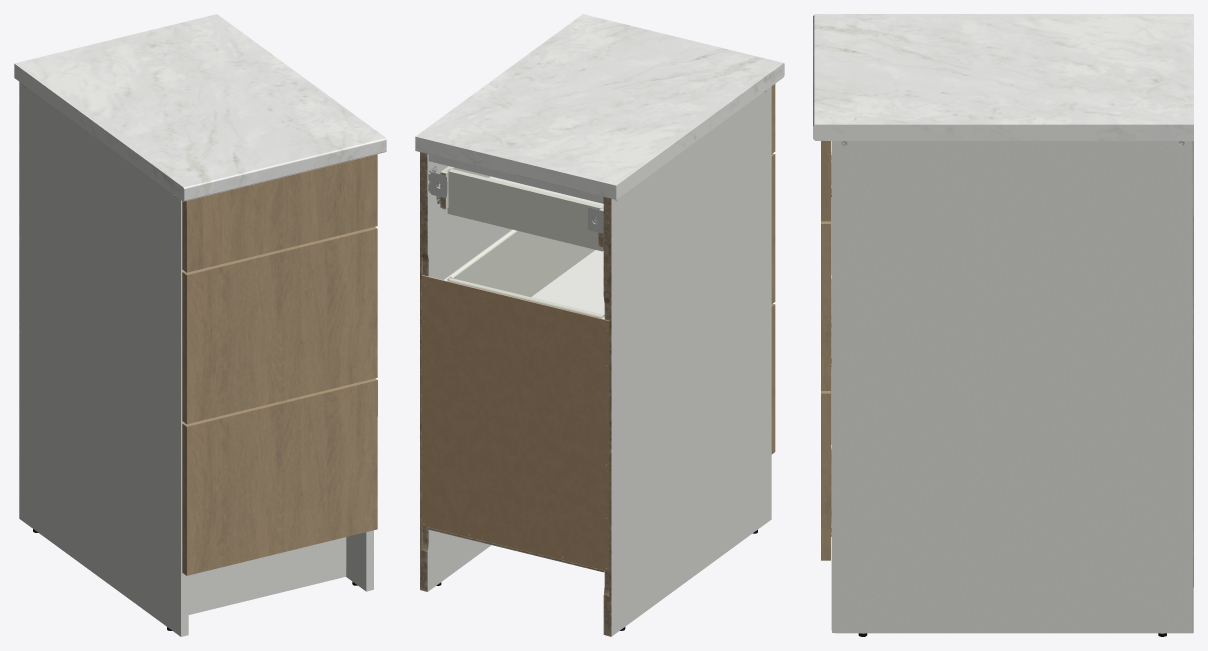
Rendered from knoxhult_szafka_z_szufladami_60603979.glb.
The picture shows the model from 3 angles, left to right: view 1: azimuth 30°, elevation 25°; view 2: azimuth 150°, elevation 25°; view 3: azimuth 270°, elevation 25°; orthographic projection. The views are drawn at different scales.
Visible parts, largest first — view 1: knoxhult_szafka_z_szufladami_60603979; view 2: knoxhult_szafka_z_szufladami_60603979; view 3: knoxhult_szafka_z_szufladami_60603979.
Boxes of the visible parts, <box> form: knoxhult_szafka_z_szufladami_60603979: <box>14,14,386,636</box>; knoxhult_szafka_z_szufladami_60603979: <box>415,14,784,636</box>; knoxhult_szafka_z_szufladami_60603979: <box>813,14,1193,636</box>.
Size of the model in its own units: 0.42 by 0.9102 by 0.6103.
Materials: 2 (2 with a texture image).
